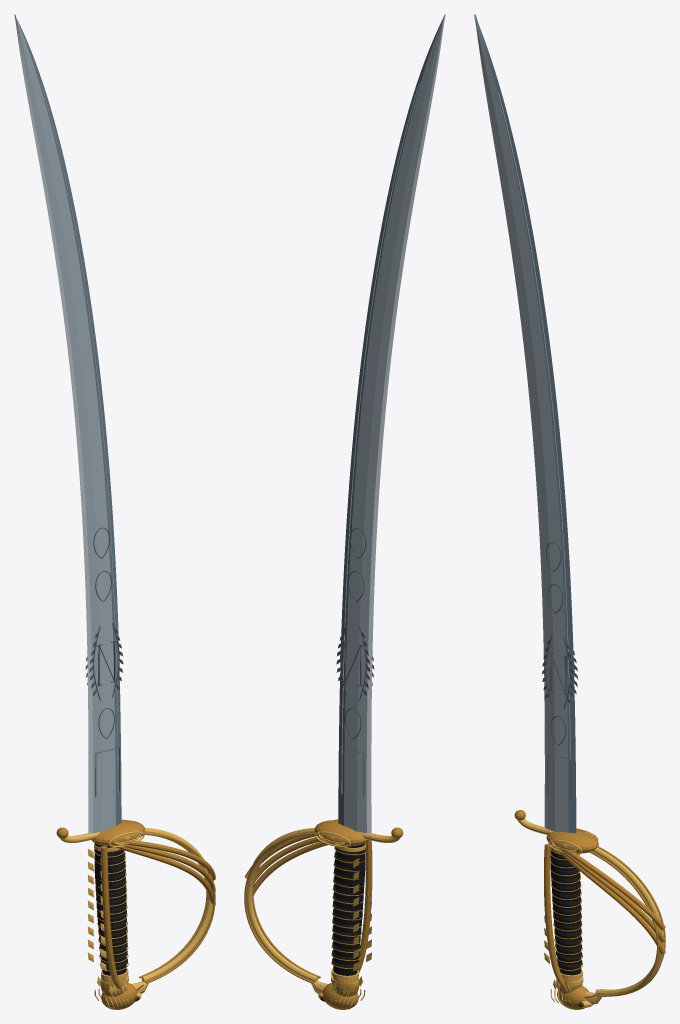
File: eagle_sabre.obj
3 renders of one model, left to right at view 1: azimuth 30°, elevation 25°; view 2: azimuth 150°, elevation 25°; view 3: azimuth 330°, elevation 25°, orthographic. The views are drawn at different scales.
Parts seen in each view (by area): view 1: part_1, part_513, part_6057, part_4323, part_12237, part_8519, part_7113, part_7413, part_7713, part_6825, part_4935; view 2: part_1, part_513, part_6057, part_10837, part_4323, part_8519, part_6537, part_7113, part_4935, part_7413; view 3: part_1, part_513, part_6057, part_4323, part_12237, part_8519, part_7713, part_7113, part_7413, part_6825, part_4935.
Part boxes in pixels (box(x1,y1,x2,y2)): part_1: box(14, 14, 121, 833); part_513: box(94, 843, 126, 975); part_6057: box(141, 828, 213, 982); part_4323: box(101, 846, 121, 988); part_12237: box(40, 84, 118, 793); part_8519: box(91, 820, 145, 846); part_7113: box(102, 840, 215, 904); part_7413: box(120, 844, 215, 891); part_7713: box(103, 837, 215, 880); part_6825: box(144, 832, 215, 983); part_4935: box(101, 982, 137, 1009); part_1: box(338, 14, 445, 833); part_513: box(333, 843, 365, 975); part_6057: box(246, 828, 318, 982); part_10837: box(341, 84, 419, 793); part_4323: box(357, 840, 372, 972); part_8519: box(314, 820, 367, 846); part_6537: box(244, 832, 315, 983); part_7113: box(252, 840, 330, 896); part_4935: box(322, 982, 358, 1009); part_7413: box(253, 836, 322, 883); part_1: box(474, 14, 576, 833); part_513: box(550, 845, 581, 975); part_6057: box(592, 847, 664, 996); part_4323: box(544, 844, 564, 986); part_12237: box(498, 92, 570, 803); part_8519: box(546, 829, 598, 853); part_7713: box(548, 836, 665, 929); part_7113: box(548, 839, 665, 954); part_7413: box(560, 850, 665, 942); part_6825: box(589, 851, 658, 996); part_4935: box(557, 985, 588, 1009).
Bounding box in the file's own units: 0.2784 × 1.35 × 0.0502.
